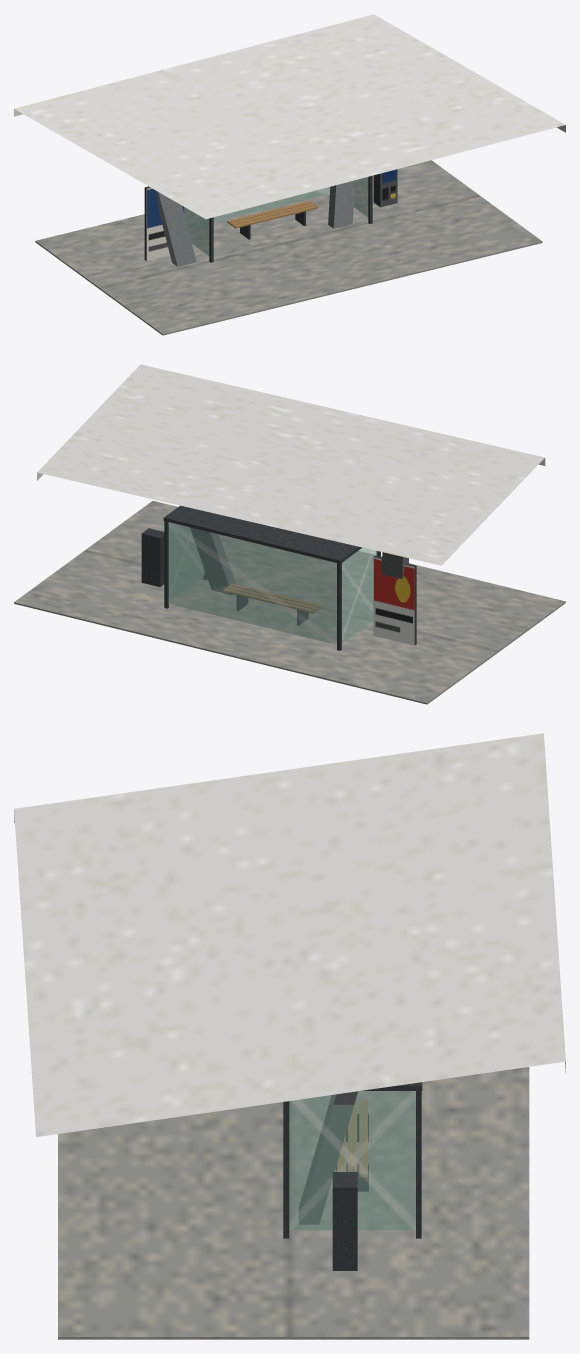
File: pilzdach_h8.glb
The picture shows the model from 3 angles, top to bottom: view 1: azimuth 30°, elevation 25°; view 2: azimuth 150°, elevation 25°; view 3: azimuth 270°, elevation 25°; orthographic projection. The views are drawn at different scales.
Visible parts, largest first — view 1: H8; view 2: H8; view 3: H8.
Part boxes in pixels (x1,y1,x2,y2): H8: [14, 14, 565, 335]; H8: [14, 364, 565, 704]; H8: [14, 733, 565, 1339].
Bounding box in the file's own units: 12 × 3.75 × 7.5.
2 materials, 2 textured.
